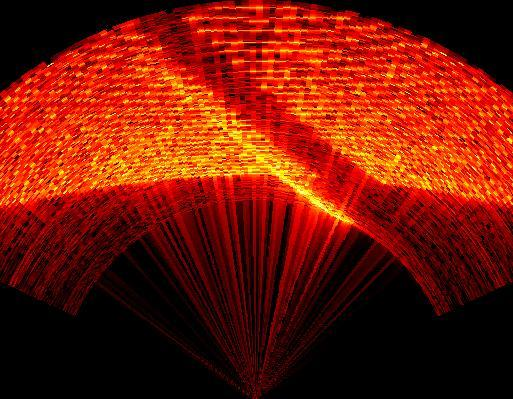pipe: (137, 12, 388, 221)
